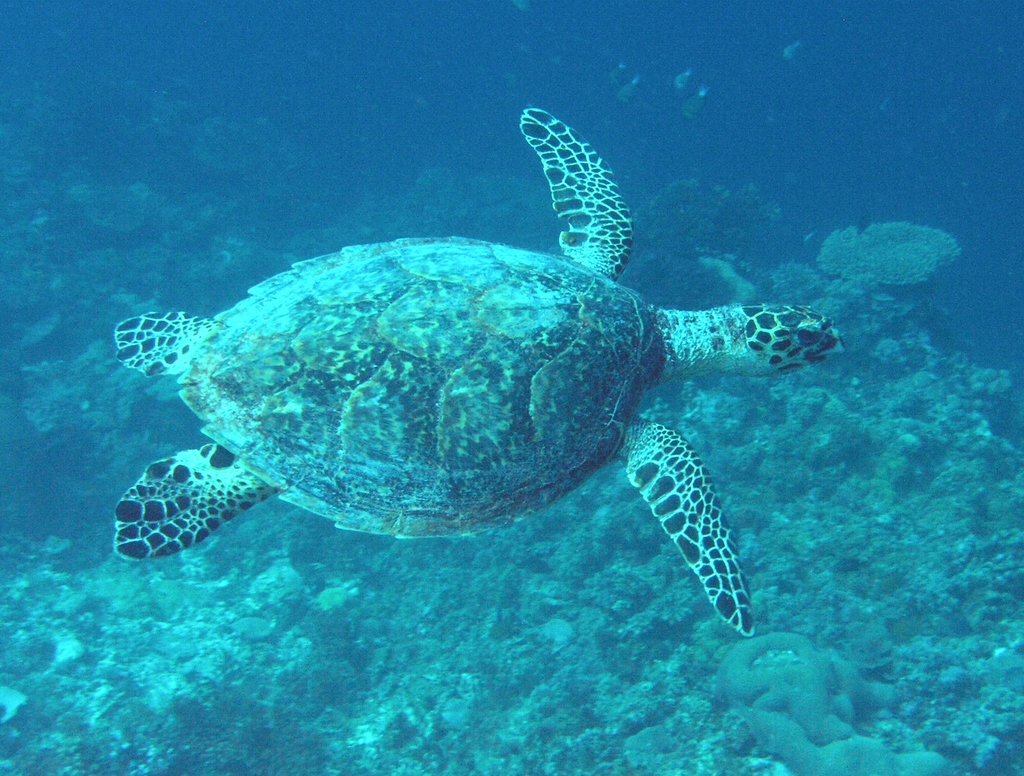Sea turtles: (103, 104, 853, 644)
